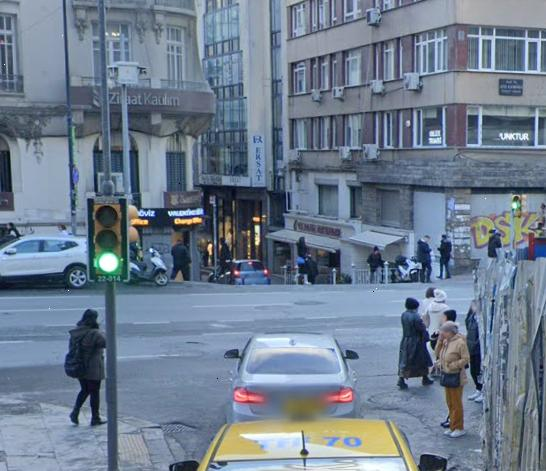greenlight: (83, 199, 127, 285), (512, 194, 523, 220)
